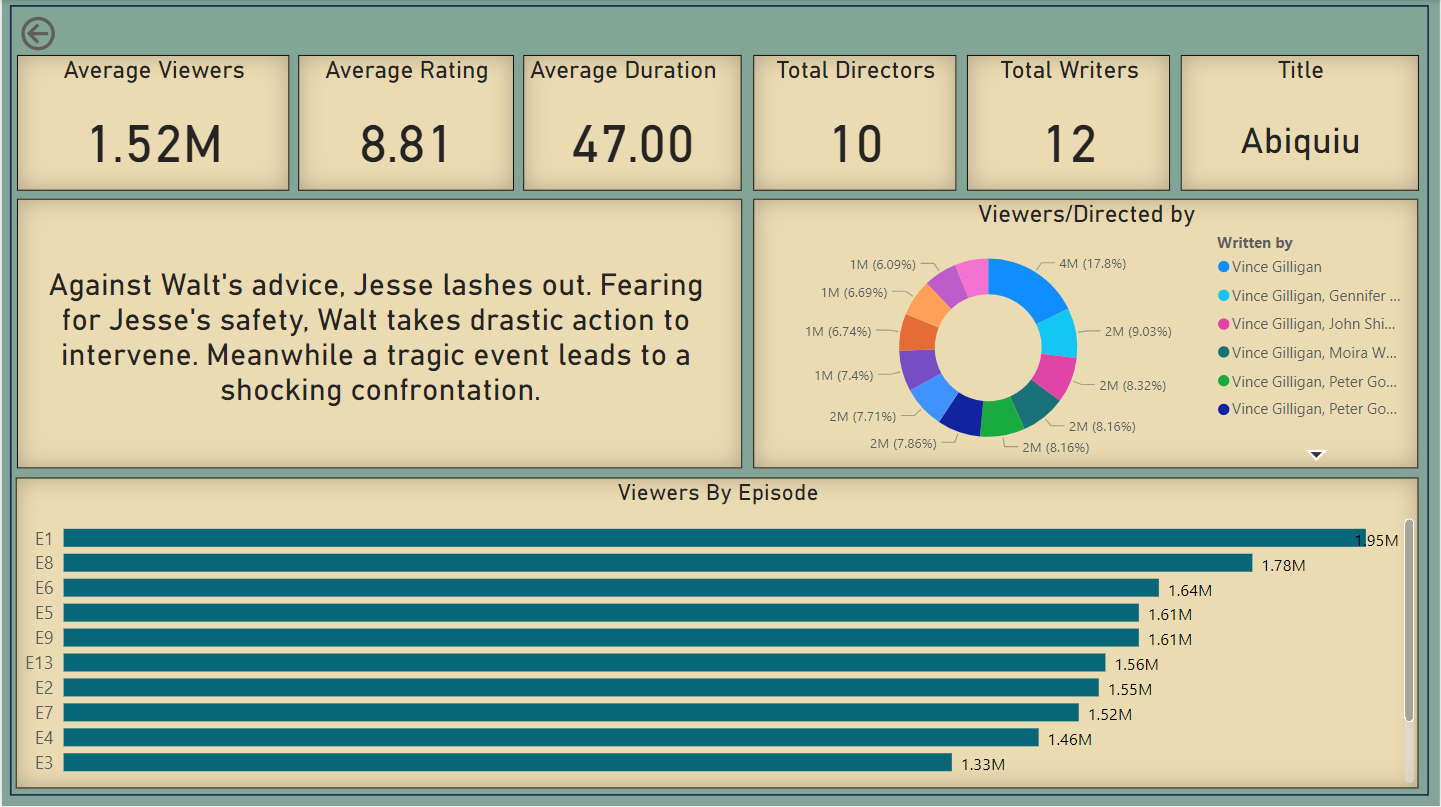

The page's visual inventory and layout, read from the dashboard file:
{"tool":"powerbi","page":{"name":"Season 3","canvas":[1280,720],"ordinal":3},"visuals":[{"type":"card","title":"Average Viewers","fields":{"Values":["breaking_bad.AverageViewsSeason3"]},"box":[13.3,49.4,242.4,120.6],"z":0},{"type":"actionButton","box":[12.1,9.6,100.1,39.8],"z":1000},{"type":"card","title":"Average Rating","fields":{"Values":["breaking_bad.Average Rating Season 3"]},"box":[264.1,49.4,191.8,120.6],"z":2000},{"type":"card","title":"Average Duration","fields":{"Values":["breaking_bad.Average Duration Season 3"]},"box":[464.3,49.4,194.2,120.6],"z":3000},{"type":"card","fields":{"Values":["Min(breaking_bad.Summary)"]},"box":[13.3,177.3,645.2,240],"z":4000},{"type":"donutChart","title":"Viewers/Directed by","fields":{"Y":["Sum(breaking_bad.US.viewers_million)"],"Category":["breaking_bad.Written by"]},"box":[669.3,177.3,592.2,240],"z":5000},{"type":"barChart","title":"Viewers By Episode","fields":{"Category":["breaking_bad.Episode"],"Y":["Sum(breaking_bad.US.viewers_million)"]},"box":[12.8,425.3,1249.1,276.5],"z":6000},{"type":"card","title":"Total Writers","fields":{"Values":["Count(breaking_bad.Written by)"]},"box":[858.7,49.4,180.9,120.6],"z":7000},{"type":"card","title":"Total Directors","fields":{"Values":["Count(breaking_bad.Directed by)"]},"box":[669.3,49.4,180.9,120.6],"z":8000},{"type":"card","title":"Title","fields":{"Values":["Min(breaking_bad.Title)"]},"box":[1049.2,49.4,212.3,120.6],"z":9000}]}

Visuals, with their boxes in screenshot pixels (x1, y1, x2, y2), scaled from the page's 1280x720 canvas onto the 1441x807 screenshot:
"Average Viewers" card: rect(15, 55, 288, 191)
actionButton: rect(14, 11, 126, 55)
"Average Rating" card: rect(297, 55, 513, 191)
"Average Duration" card: rect(523, 55, 741, 191)
card - Min(breaking_bad.Summary): rect(15, 199, 741, 468)
"Viewers/Directed by" donutChart: rect(753, 199, 1420, 468)
"Viewers By Episode" barChart: rect(14, 477, 1421, 787)
"Total Writers" card: rect(967, 55, 1170, 191)
"Total Directors" card: rect(753, 55, 957, 191)
"Title" card: rect(1181, 55, 1420, 191)
